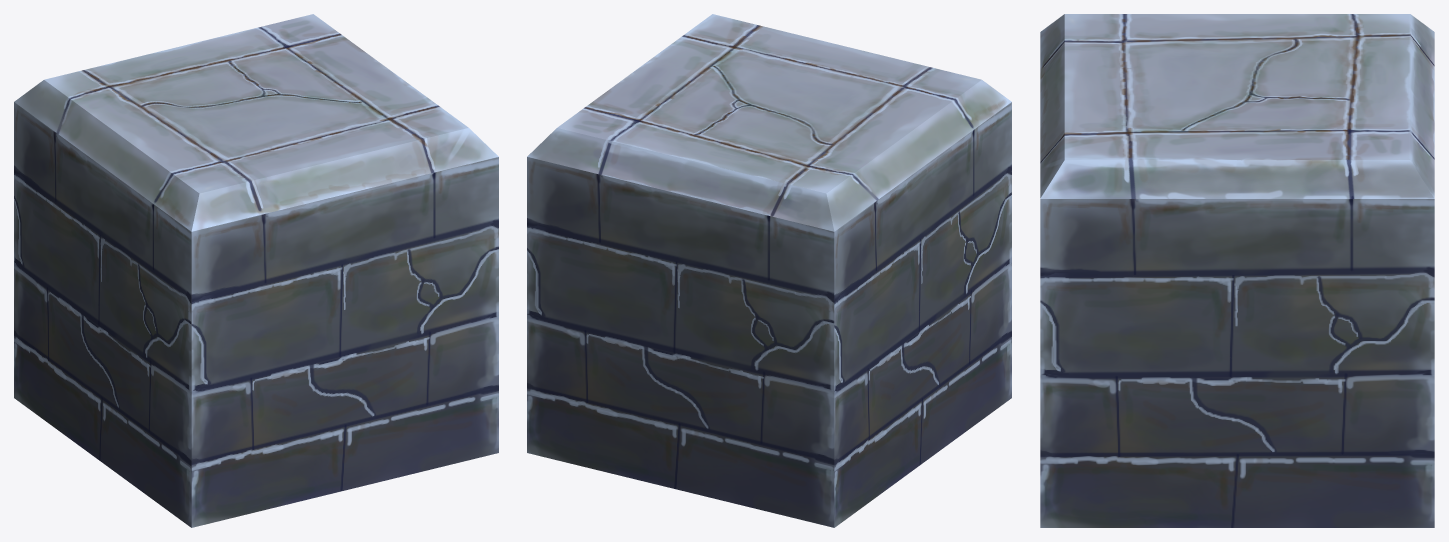
File: Tile_1.fbx
3 renders of one model, left to right at view 1: azimuth 30°, elevation 25°; view 2: azimuth 150°, elevation 25°; view 3: azimuth 270°, elevation 25°, orthographic. The views are drawn at different scales.
Visible parts, largest first — view 1: Cube; view 2: Cube; view 3: Cube.
Part boxes in pixels (x1,y1,x2,y2): Cube: [14, 14, 498, 527]; Cube: [527, 14, 1011, 527]; Cube: [1040, 14, 1434, 527].
Bounding box in the file's own units: 200 × 200 × 200.
1 material, 1 textured.
